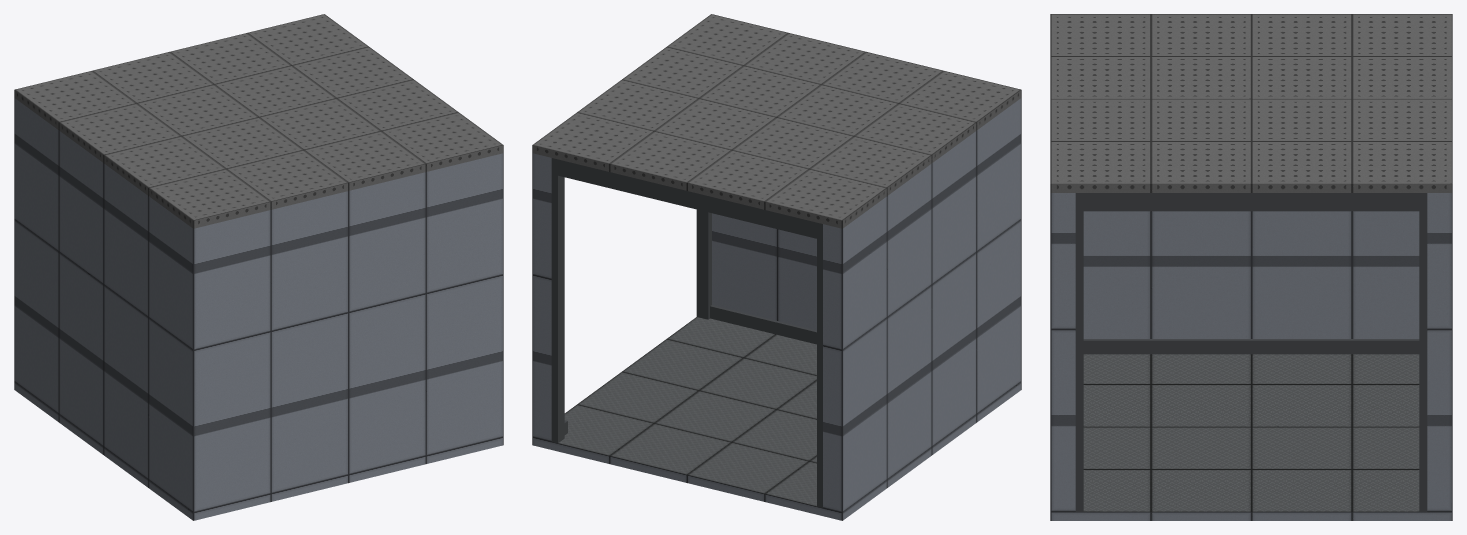
Rendered from Corridor_SciFi_Corner_NoLight.glb.
The picture shows the model from 3 angles, left to right: view 1: azimuth 30°, elevation 25°; view 2: azimuth 150°, elevation 25°; view 3: azimuth 270°, elevation 25°; orthographic projection. The views are drawn at different scales.
Parts seen in each view (by area): view 1: Corridor_SciFi_Corner_NoLight, Corridor_SciFi_Corner_NoLight_Ceiling; view 2: Corridor_SciFi_Corner_NoLight, Corridor_SciFi_Corner_NoLight_Ceiling; view 3: Corridor_SciFi_Corner_NoLight, Corridor_SciFi_Corner_NoLight_Ceiling.
Part boxes in pixels (x1,y1,x2,y2): Corridor_SciFi_Corner_NoLight: (14,98,503,520); Corridor_SciFi_Corner_NoLight_Ceiling: (14,14,503,228); Corridor_SciFi_Corner_NoLight: (532,98,1021,520); Corridor_SciFi_Corner_NoLight_Ceiling: (532,14,1021,238); Corridor_SciFi_Corner_NoLight: (1050,193,1452,520); Corridor_SciFi_Corner_NoLight_Ceiling: (1050,14,1452,211).
Size of the model in its own units: 4 by 3.7 by 4.
5 materials, 3 textured.
